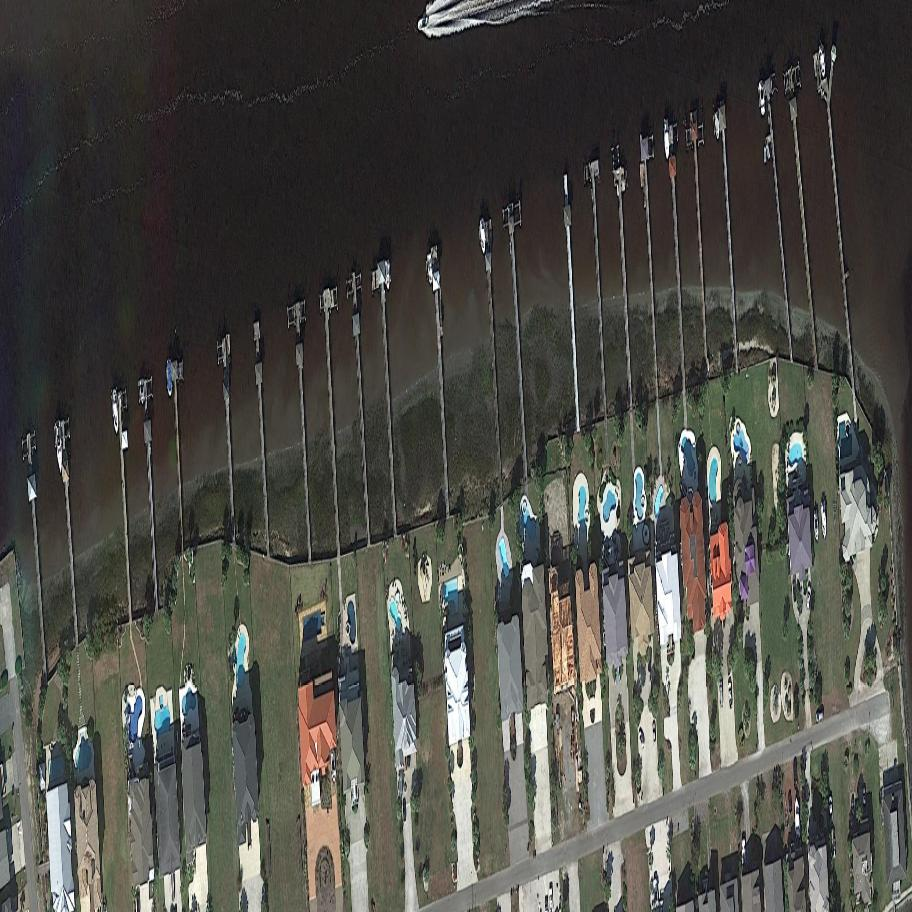ship: (54, 420, 64, 476), (111, 389, 120, 436), (817, 42, 827, 77), (758, 80, 766, 118), (820, 498, 827, 539), (794, 795, 800, 842), (479, 220, 487, 255), (166, 360, 173, 396), (330, 747, 336, 783), (813, 508, 819, 543), (664, 120, 669, 161), (416, 17, 429, 32), (653, 879, 659, 911), (385, 258, 391, 290), (714, 110, 720, 141), (427, 250, 432, 286)
small-vehicle: (637, 727, 646, 753), (805, 583, 812, 610), (828, 795, 834, 826), (792, 576, 798, 607), (793, 757, 798, 791), (402, 797, 407, 824), (728, 683, 733, 709), (652, 721, 657, 745), (851, 793, 855, 819), (719, 681, 723, 706), (862, 785, 866, 809), (816, 711, 824, 723), (788, 790, 792, 814)
